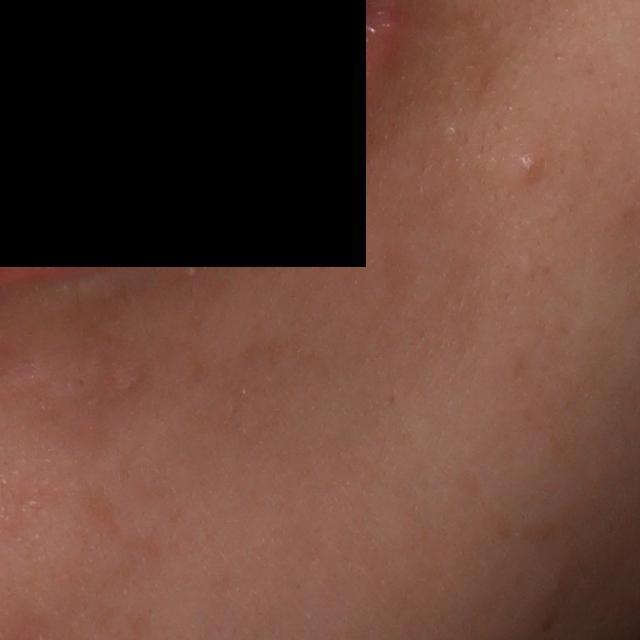comedo: (509, 145, 543, 179)
